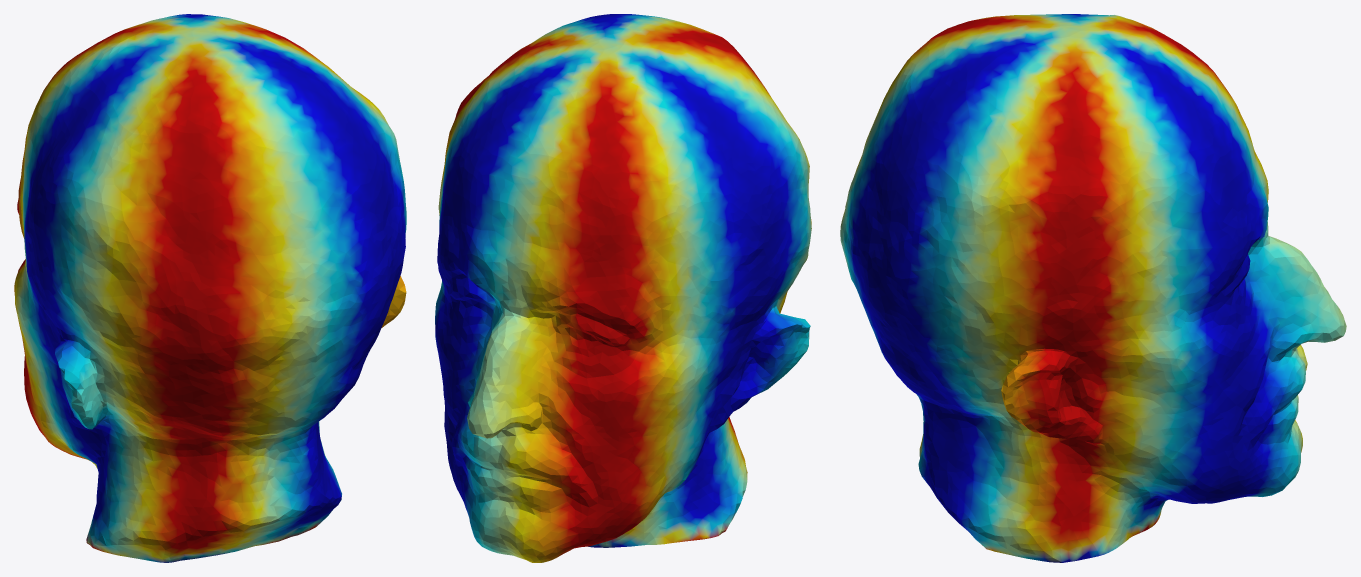
File: max_boundary_sin_fem.glb
The picture shows the model from 3 angles, left to right: view 1: azimuth 30°, elevation 25°; view 2: azimuth 150°, elevation 25°; view 3: azimuth 270°, elevation 25°; orthographic projection. The views are drawn at different scales.
Parts seen in each view (by area): view 1: max_boundary_2.obj; view 2: max_boundary_2.obj; view 3: max_boundary_2.obj.
Part boxes in pixels (bbox=[...]): max_boundary_2.obj: bbox=[14, 14, 406, 562]; max_boundary_2.obj: bbox=[435, 14, 811, 562]; max_boundary_2.obj: bbox=[840, 14, 1346, 562].
Size of the model in its own units: 1.28 by 1.7 by 1.62.
